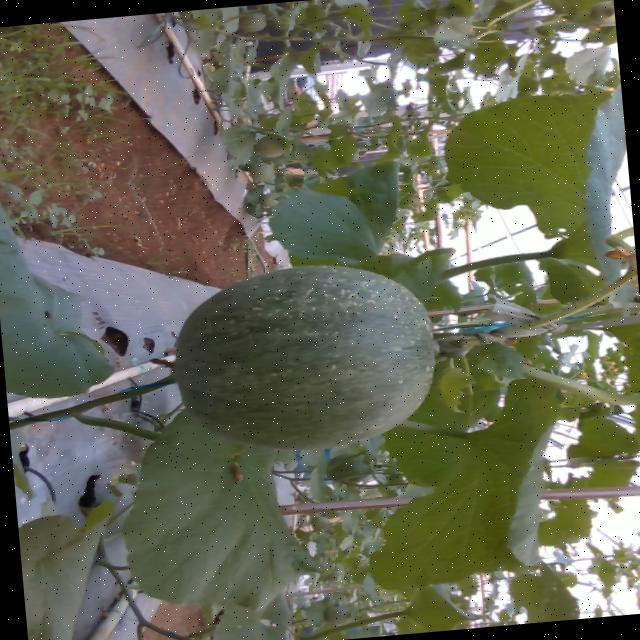melon: (172, 266, 434, 451)
